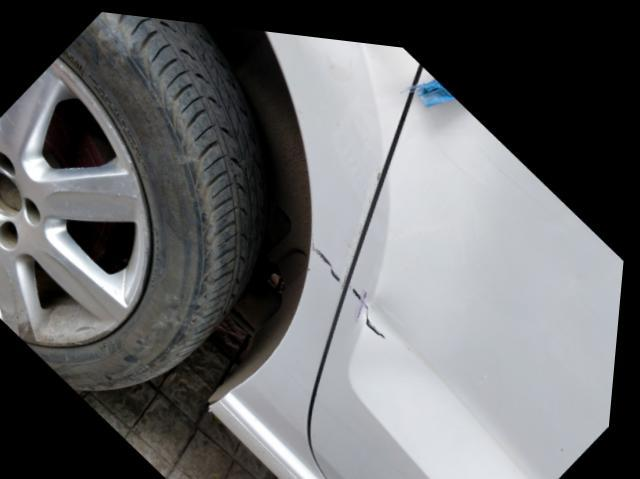crack: (356, 280, 392, 330)
dent: (305, 28, 389, 68)
scratch: (315, 239, 347, 277)
